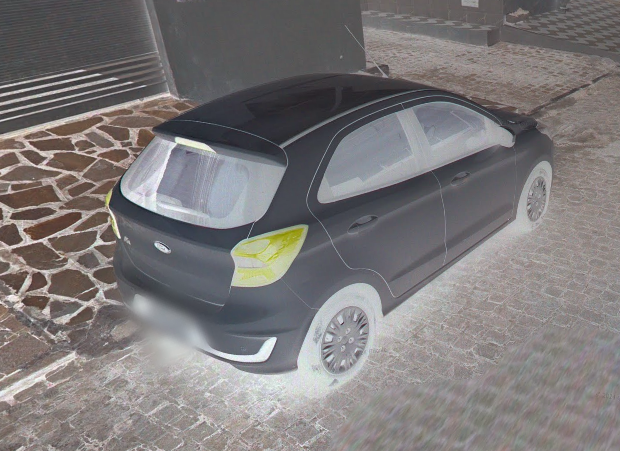car: (104, 23, 556, 384)
